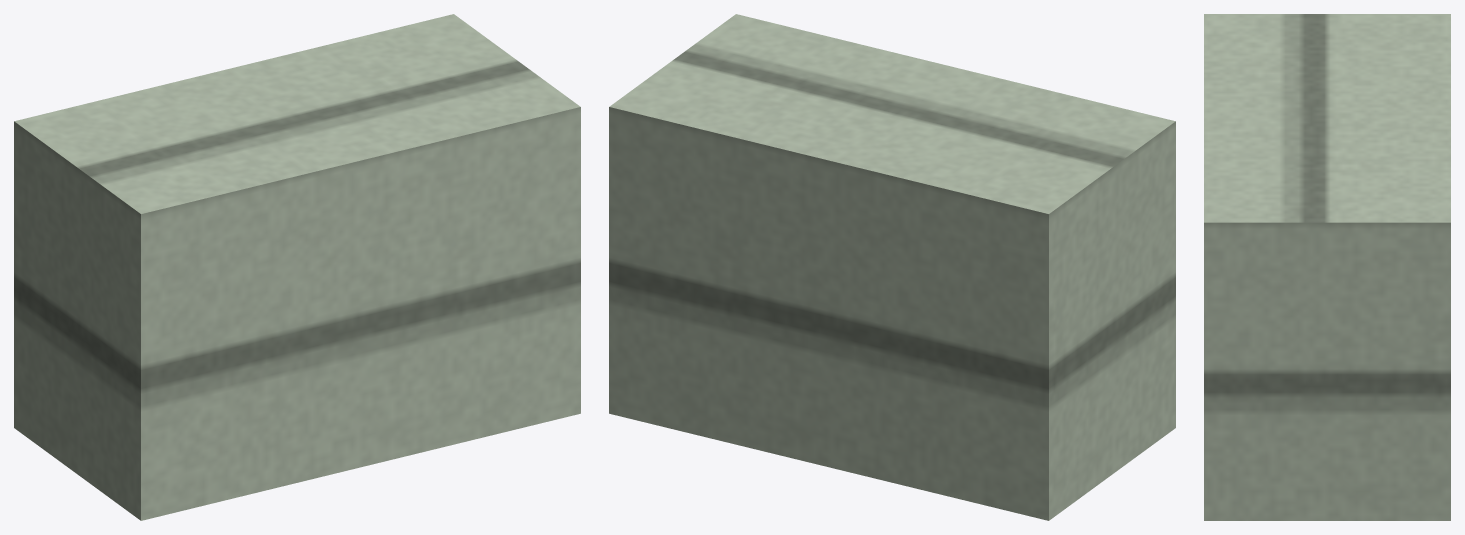
The model's file is vise.glb.
3 renders of one model, left to right at view 1: azimuth 30°, elevation 25°; view 2: azimuth 150°, elevation 25°; view 3: azimuth 270°, elevation 25°, orthographic. The views are drawn at different scales.
Parts seen in each view (by area): view 1: vise-col; view 2: vise-col; view 3: vise-col.
Boxes of the visible parts, bbox=[...] form: vise-col: bbox=[14, 14, 580, 520]; vise-col: bbox=[609, 14, 1175, 520]; vise-col: bbox=[1204, 14, 1450, 520].
Size of the model in its own units: 0.3 by 0.2 by 0.15.
Materials: 1 (1 with a texture image).
